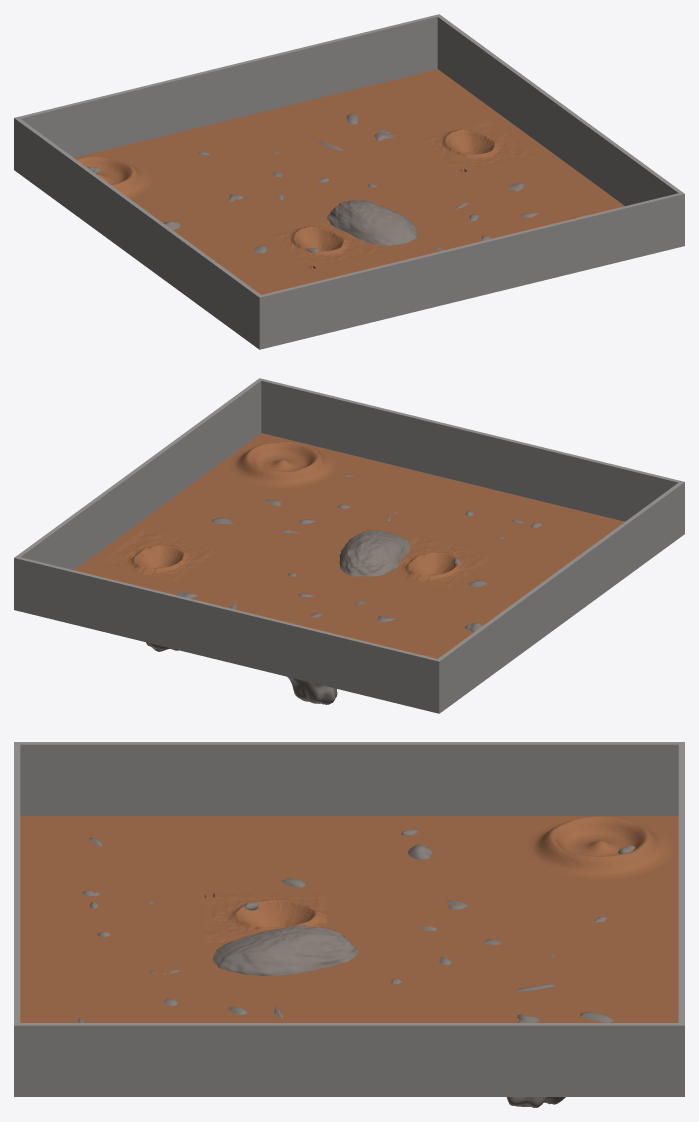
The model's file is mars_terrain.glb.
3 renders of one model, top to bottom at view 1: azimuth 30°, elevation 25°; view 2: azimuth 150°, elevation 25°; view 3: azimuth 270°, elevation 25°, orthographic. The views are drawn at different scales.
Visible parts, largest first — view 1: mars_terrain; view 2: mars_terrain; view 3: mars_terrain.
Part boxes in pixels (box(x1,y1,x2,y2)): mars_terrain: box(14, 14, 684, 349); mars_terrain: box(14, 378, 684, 713); mars_terrain: box(14, 742, 684, 1107).
Bounding box in the file's own units: 12.8 × 3.01 × 12.8.
